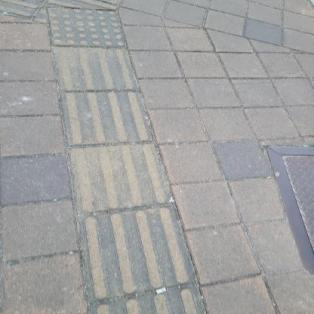Podoctatil: (0, 0, 213, 313)
